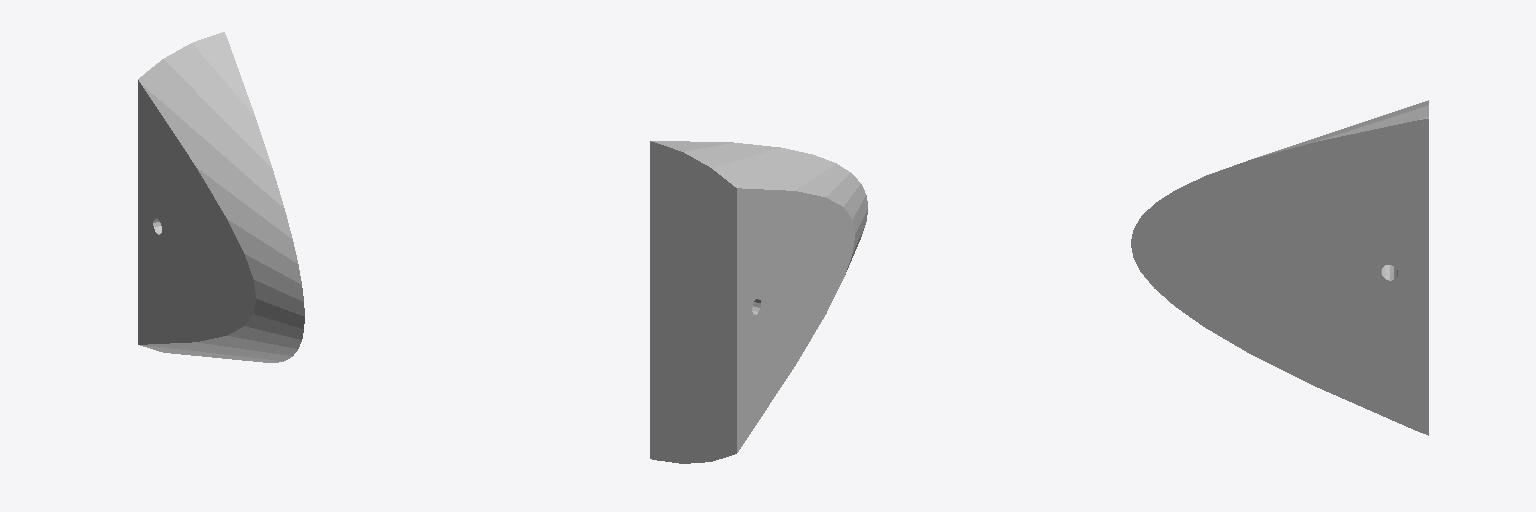
The model's file is parabola.obj.
The picture shows the model from 3 angles: view 1: azimuth 30°, elevation 25°; view 2: azimuth 150°, elevation 25°; view 3: azimuth 270°, elevation 25°; orthographic projection.
Visible parts, largest first — view 1: <STL_BINARY>; view 2: <STL_BINARY>; view 3: <STL_BINARY>.
Boxes of the visible parts, x1=… form: <STL_BINARY>: x1=138, y1=32, x2=304, y2=362; <STL_BINARY>: x1=650, y1=141, x2=867, y2=463; <STL_BINARY>: x1=1131, y1=100, x2=1428, y2=435.
Size of the model in its own units: 22.91 by 80 by 68.04.